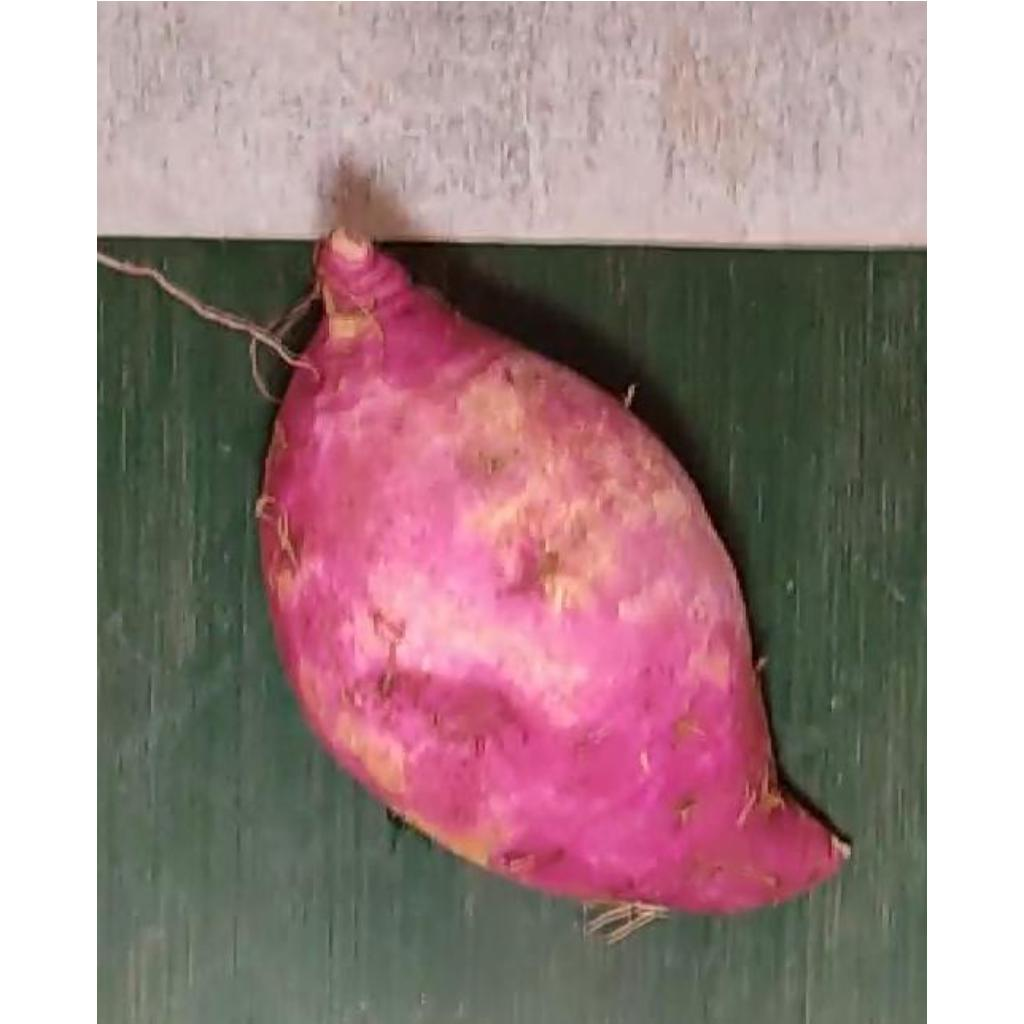Sweet Potato: (259, 229, 852, 943)
